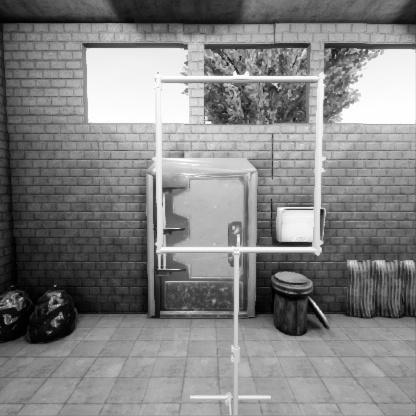gate: (152, 168, 336, 351)
